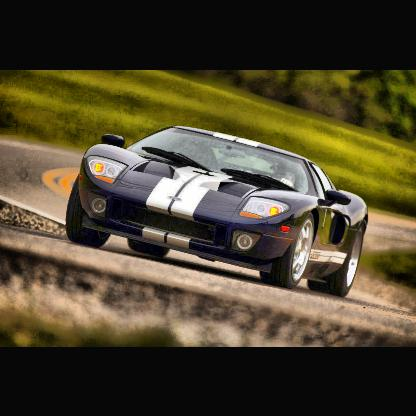Ford GT Coupe 2006: (66, 124, 369, 297)
